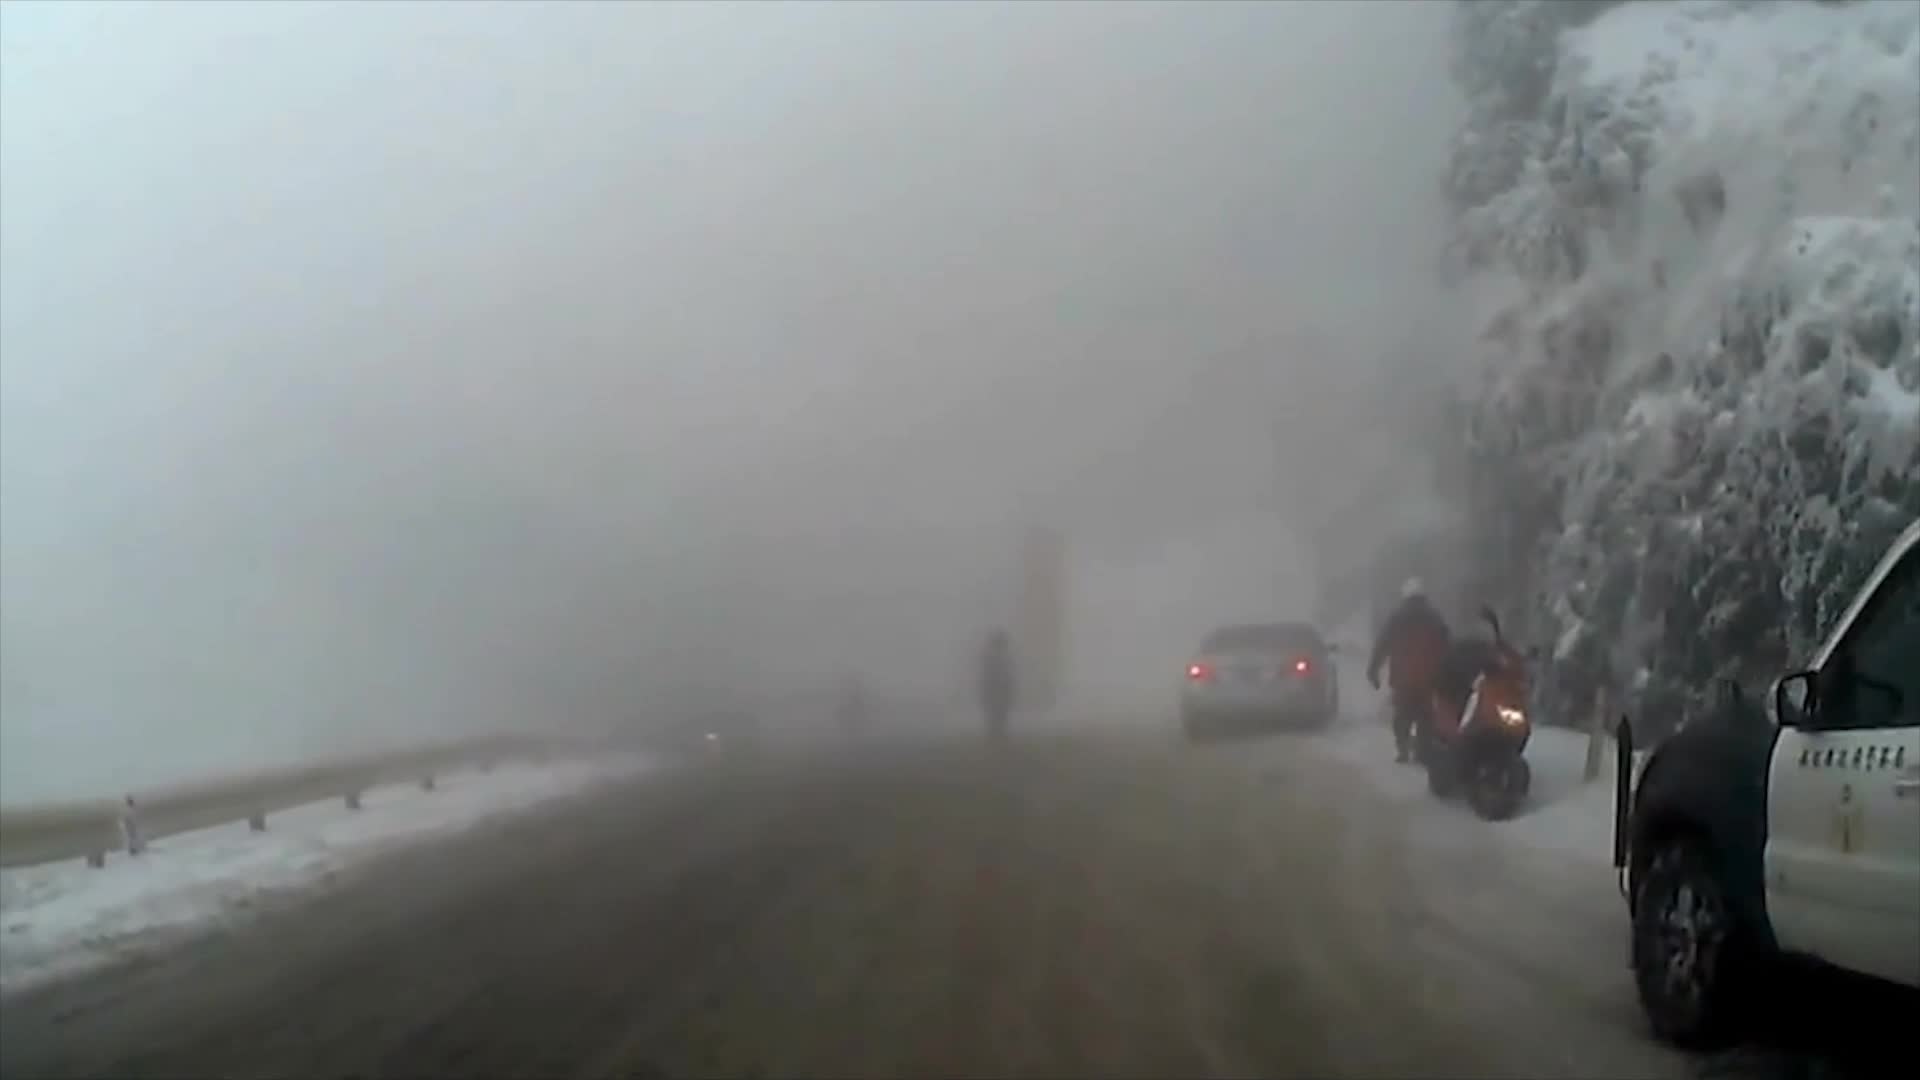pedestrian: (1370, 572, 1467, 770), (980, 633, 1017, 761)
vehicle: (1609, 518, 1917, 1080), (1178, 620, 1341, 745)
